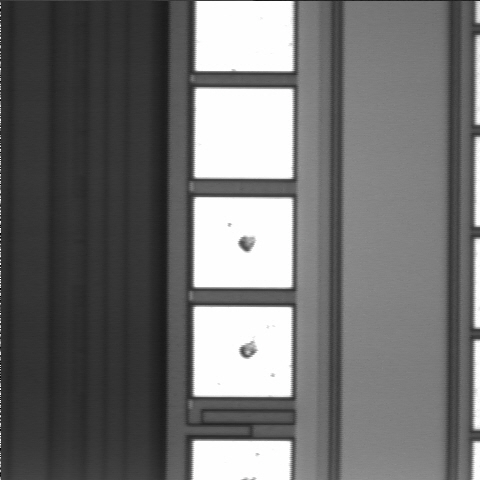pad: (195, 88, 293, 179), (194, 197, 292, 288), (194, 307, 292, 397)
